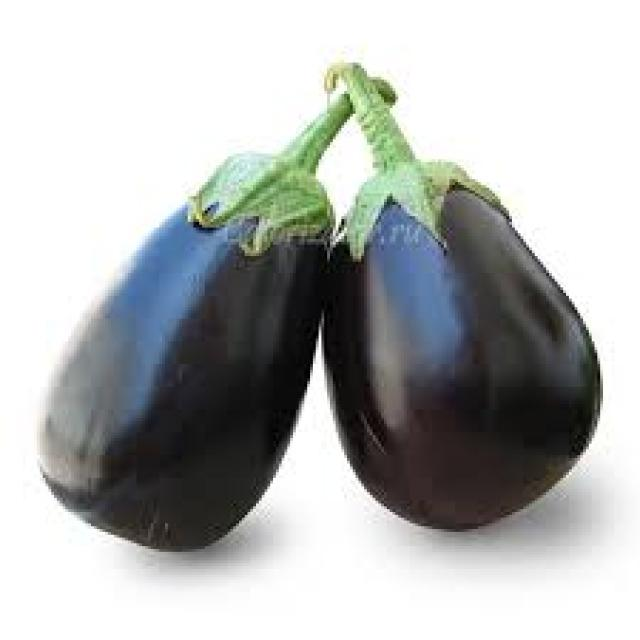eggplant: (21, 90, 351, 560), (310, 68, 610, 562)
